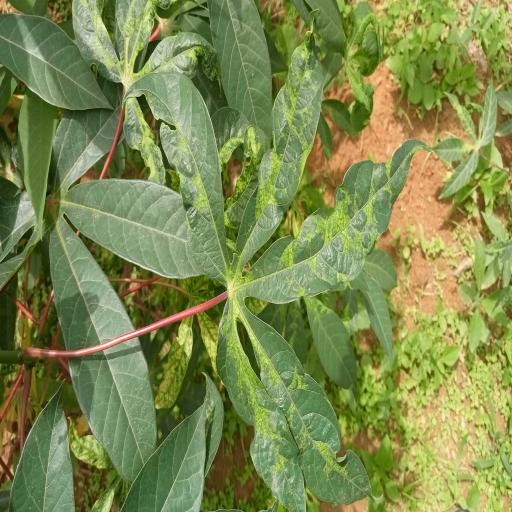Cassava_Mosaic: (120, 36, 422, 512), (71, 1, 221, 186)
